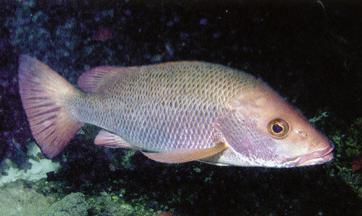Lutjanidae -Snappers-: (13, 46, 341, 173)
